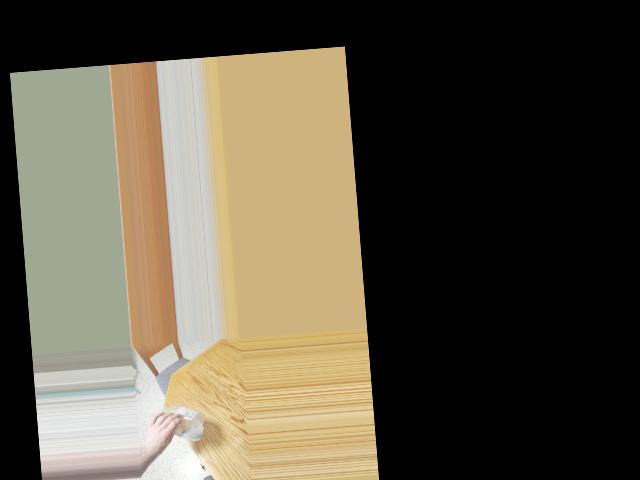cheese: (162, 406, 201, 438)
